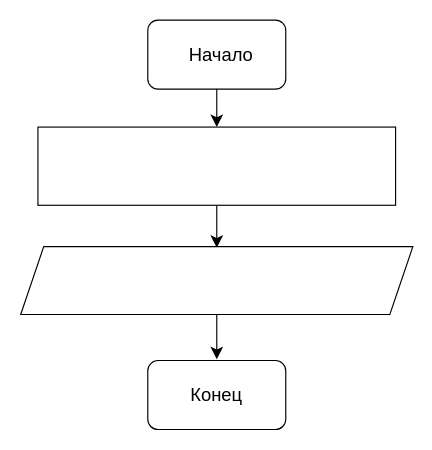
Some shapes in this 432 by 450 pixel diagram are drawn without their labels. Each missing label, with the centre of its shape:
printf("\nРазмер типа double в байтах: %d\n", size_of_double): (x=216, y=280)
size_of_double = (char*)(&arr[1]) - (char*)(&arr[0]): (x=216, y=165)
